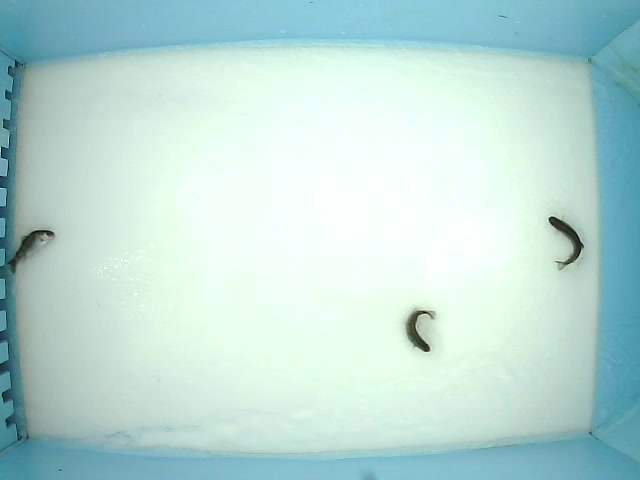fish: (2, 228, 56, 276), (547, 215, 586, 272), (404, 307, 437, 353)
